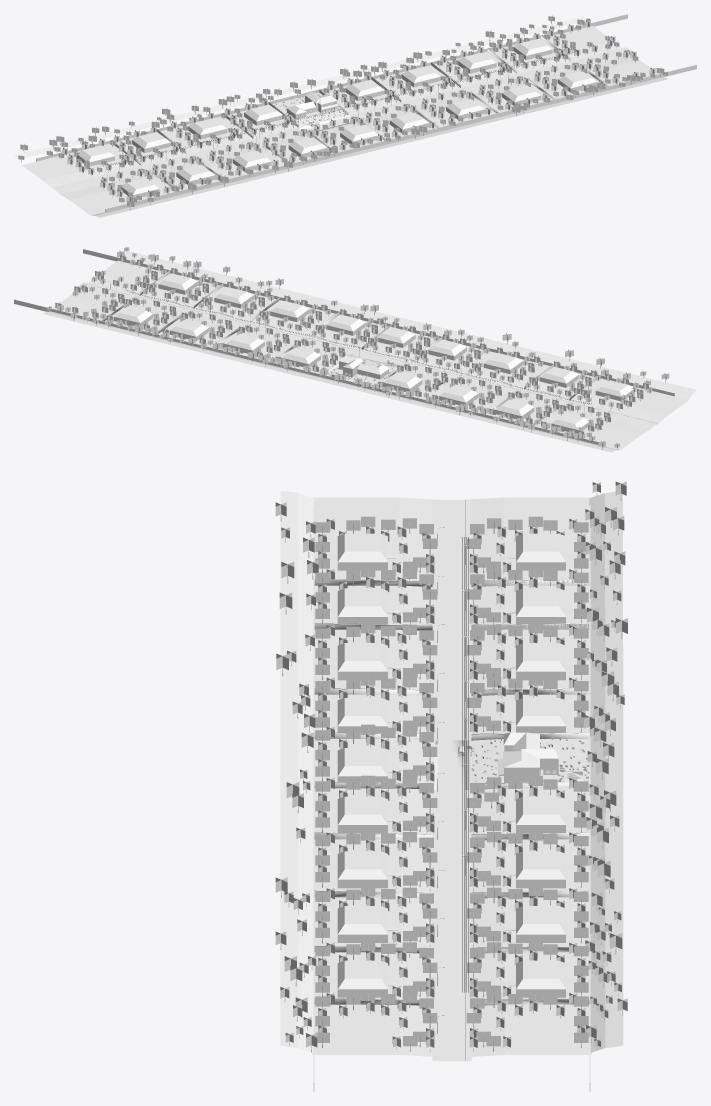
The model's file is Abandoned_House.glb.
The picture shows the model from 3 angles, top to bottom: view 1: azimuth 30°, elevation 25°; view 2: azimuth 150°, elevation 25°; view 3: azimuth 270°, elevation 25°; orthographic projection. The views are drawn at different scales.
Visible parts, largest first — view 1: Arboles.001, Arboles, Fondo, Plane.067, Plane.069, Carretera, Muro.001, Muro, Casa, Patio, Arboles.002; view 2: Arboles.001, Arboles, Fondo, Plane.067, Plane.069, Carretera, Muro.001, Muro, Casa, Arboles.002, Carretera.001, Patio; view 3: Arboles.001, Arboles, Fondo, Plane.069, Plane.067, Carretera, Muro, Arboles.002, Patio, Casa, Muro.001, Cylinder.001 (+2 smaller).
Boxes of the visible parts, x1,y1,x2,y2 form: Arboles.001: [58, 20, 655, 203]; Arboles: [14, 15, 668, 217]; Fondo: [77, 39, 597, 197]; Plane.067: [22, 110, 384, 215]; Plane.069: [323, 26, 661, 138]; Carretera: [52, 47, 631, 194]; Muro.001: [36, 14, 696, 211]; Muro: [112, 35, 609, 190]; Casa: [287, 92, 338, 118]; Patio: [272, 92, 348, 126]; Arboles.002: [313, 116, 382, 150]; Arboles.001: [55, 255, 652, 436]; Arboles: [43, 247, 696, 452]; Fondo: [113, 273, 634, 433]; Plane.067: [362, 332, 688, 450]; Plane.069: [49, 260, 387, 373]; Carretera: [79, 282, 658, 429]; Muro.001: [14, 249, 674, 446]; Muro: [101, 270, 599, 423]; Casa: [334, 354, 389, 379]; Arboles.002: [364, 321, 439, 357]; Carretera.001: [354, 350, 412, 367]; Patio: [326, 360, 397, 386]; Arboles.001: [315, 516, 588, 1051]; Arboles: [275, 481, 627, 1052]; Fondo: [337, 533, 565, 997]; Plane.069: [312, 788, 591, 1056]; Plane.067: [314, 497, 589, 782]; Carretera: [432, 499, 471, 1061]; Muro: [314, 579, 589, 1005]; Arboles.002: [315, 724, 437, 782]; Patio: [471, 739, 589, 782]; Casa: [498, 732, 559, 782]; Muro.001: [313, 505, 590, 1091]; Cylinder.001: [462, 537, 468, 992].
Bounding box in the file's own units: 525 × 14.96 × 204.
Materials: 78 (5 with a texture image).
